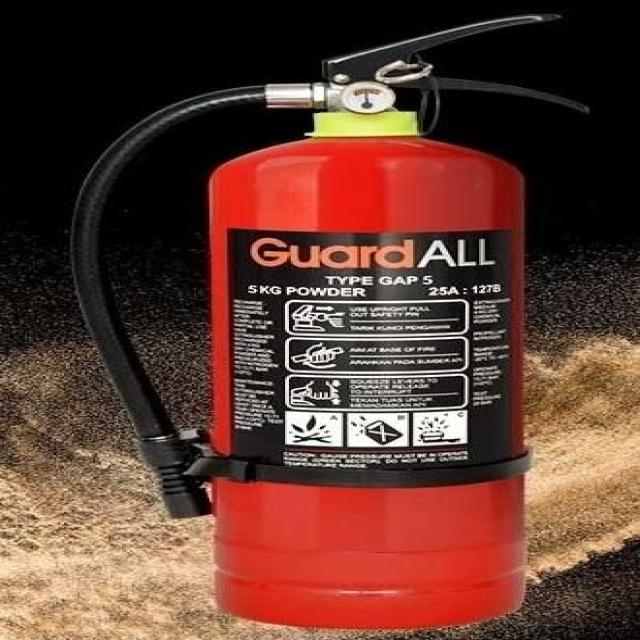fire_extinguisher: (52, 9, 598, 633)
